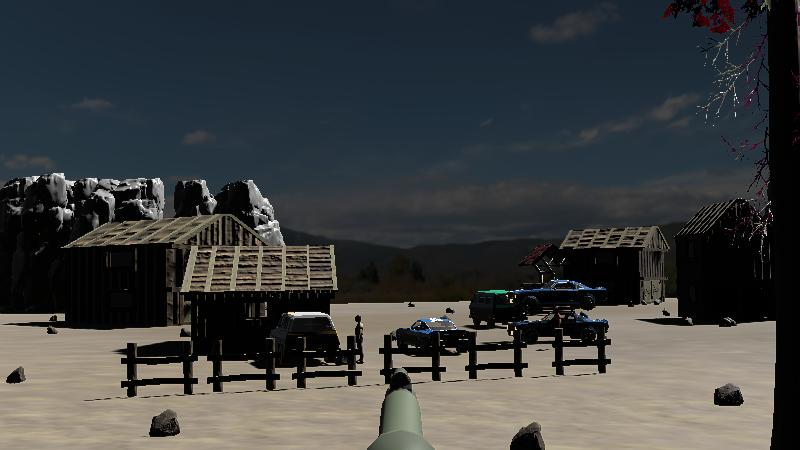House: (670, 196, 774, 325)
Human: (351, 312, 367, 364)
car: (268, 307, 343, 367), (508, 309, 611, 347), (393, 316, 475, 356), (394, 316, 475, 356), (513, 278, 611, 311), (468, 288, 540, 327), (468, 289, 540, 327), (407, 314, 460, 332)
